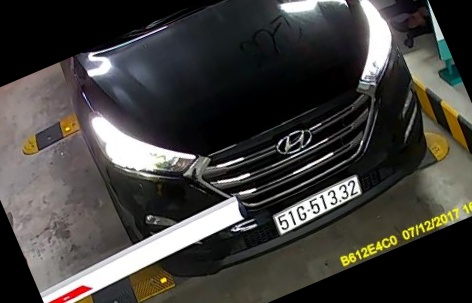plate: (261, 177, 371, 235)
